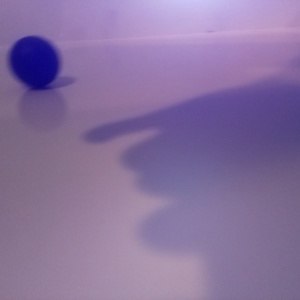dead_ball: (8, 35, 59, 87)
